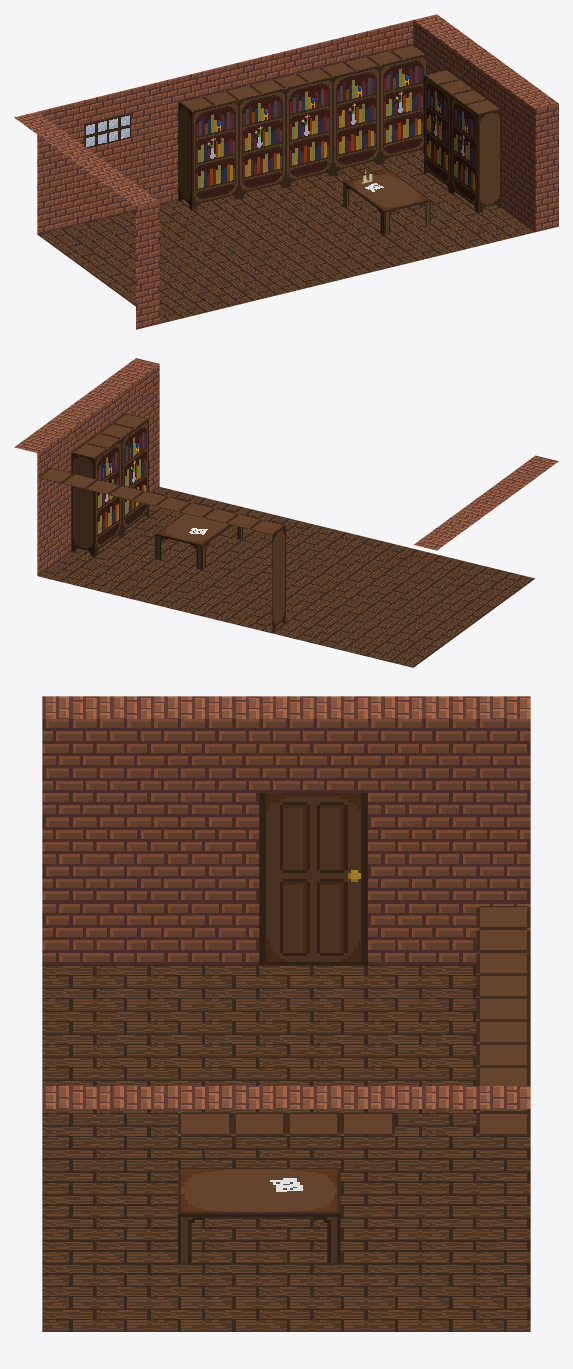
File: Post Office Rough Render.gltf
3 renders of one model, top to bottom at view 1: azimuth 30°, elevation 25°; view 2: azimuth 150°, elevation 25°; view 3: azimuth 270°, elevation 25°, orthographic. The views are drawn at different scales.
Size of the model in its own units: 18 by 6 by 9.
Materials: 1 (1 with a texture image).
